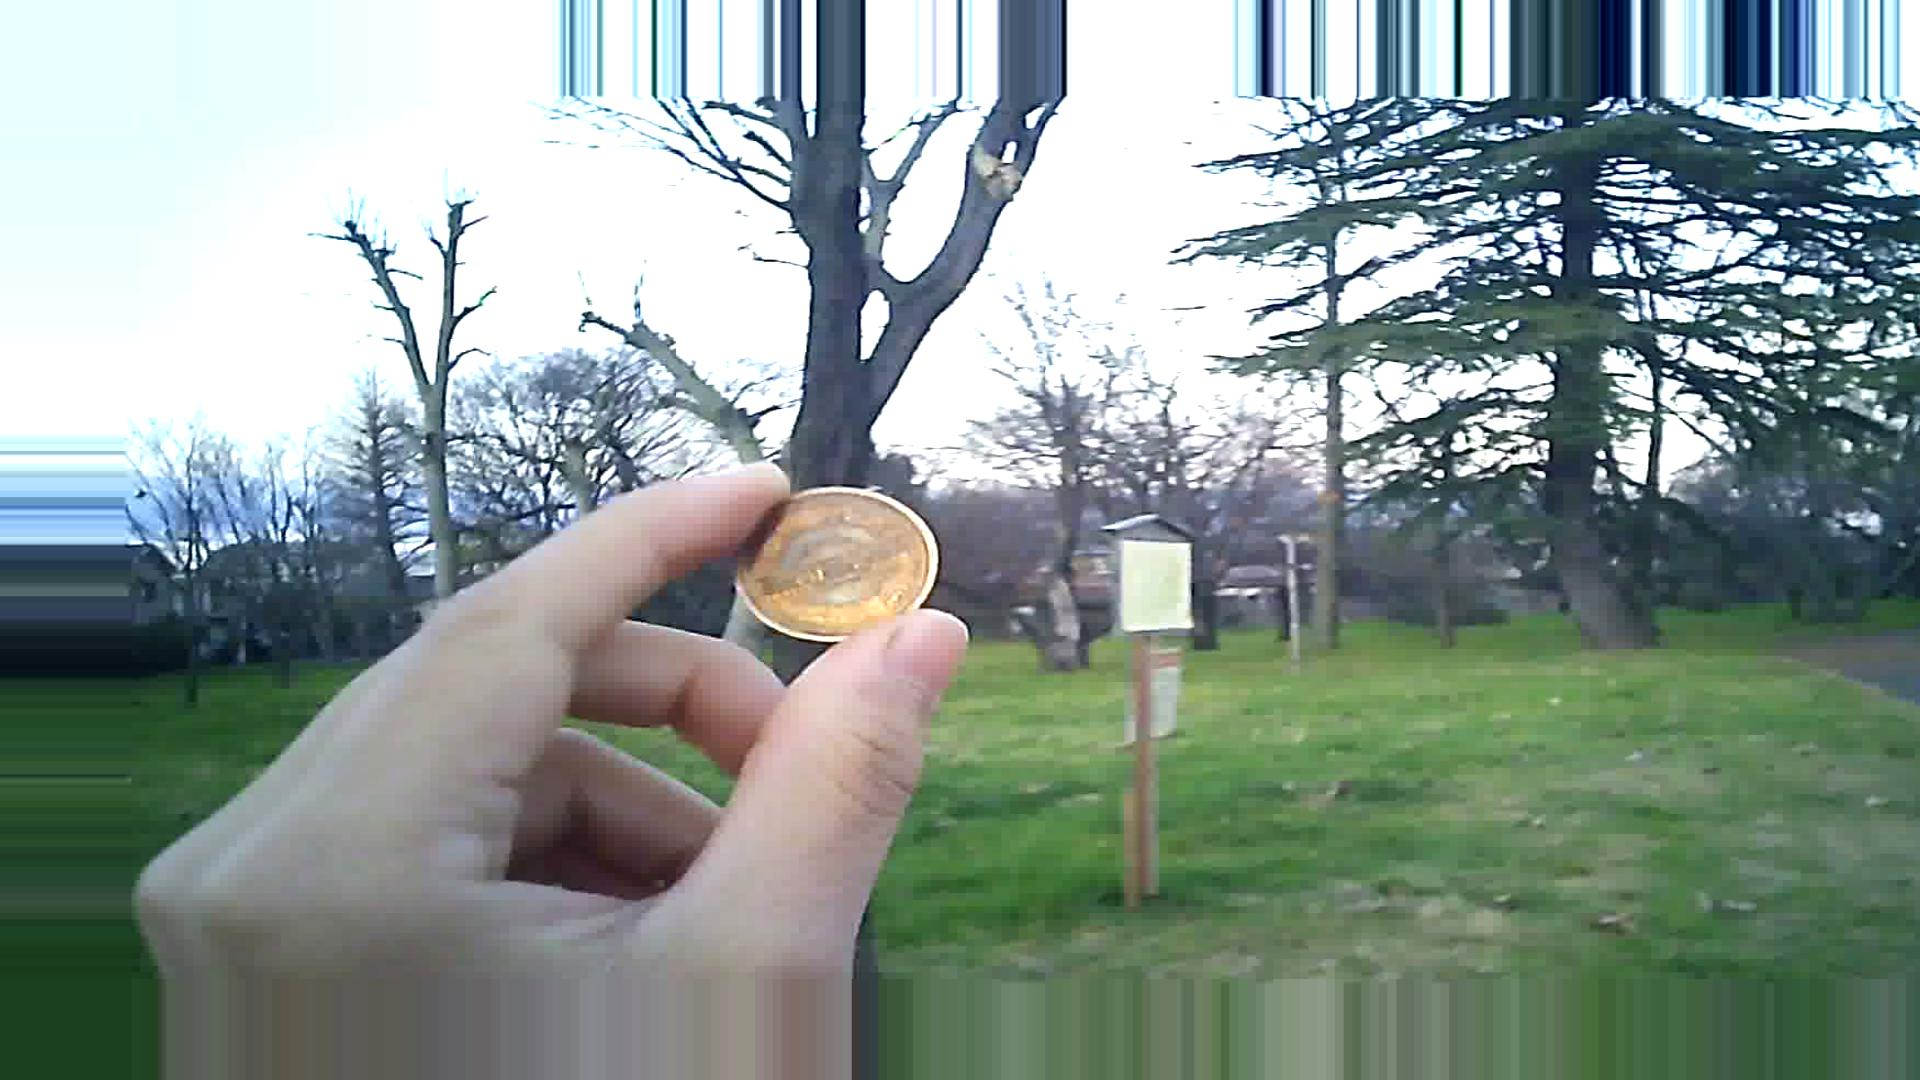10 Yen: (736, 481, 978, 642)
